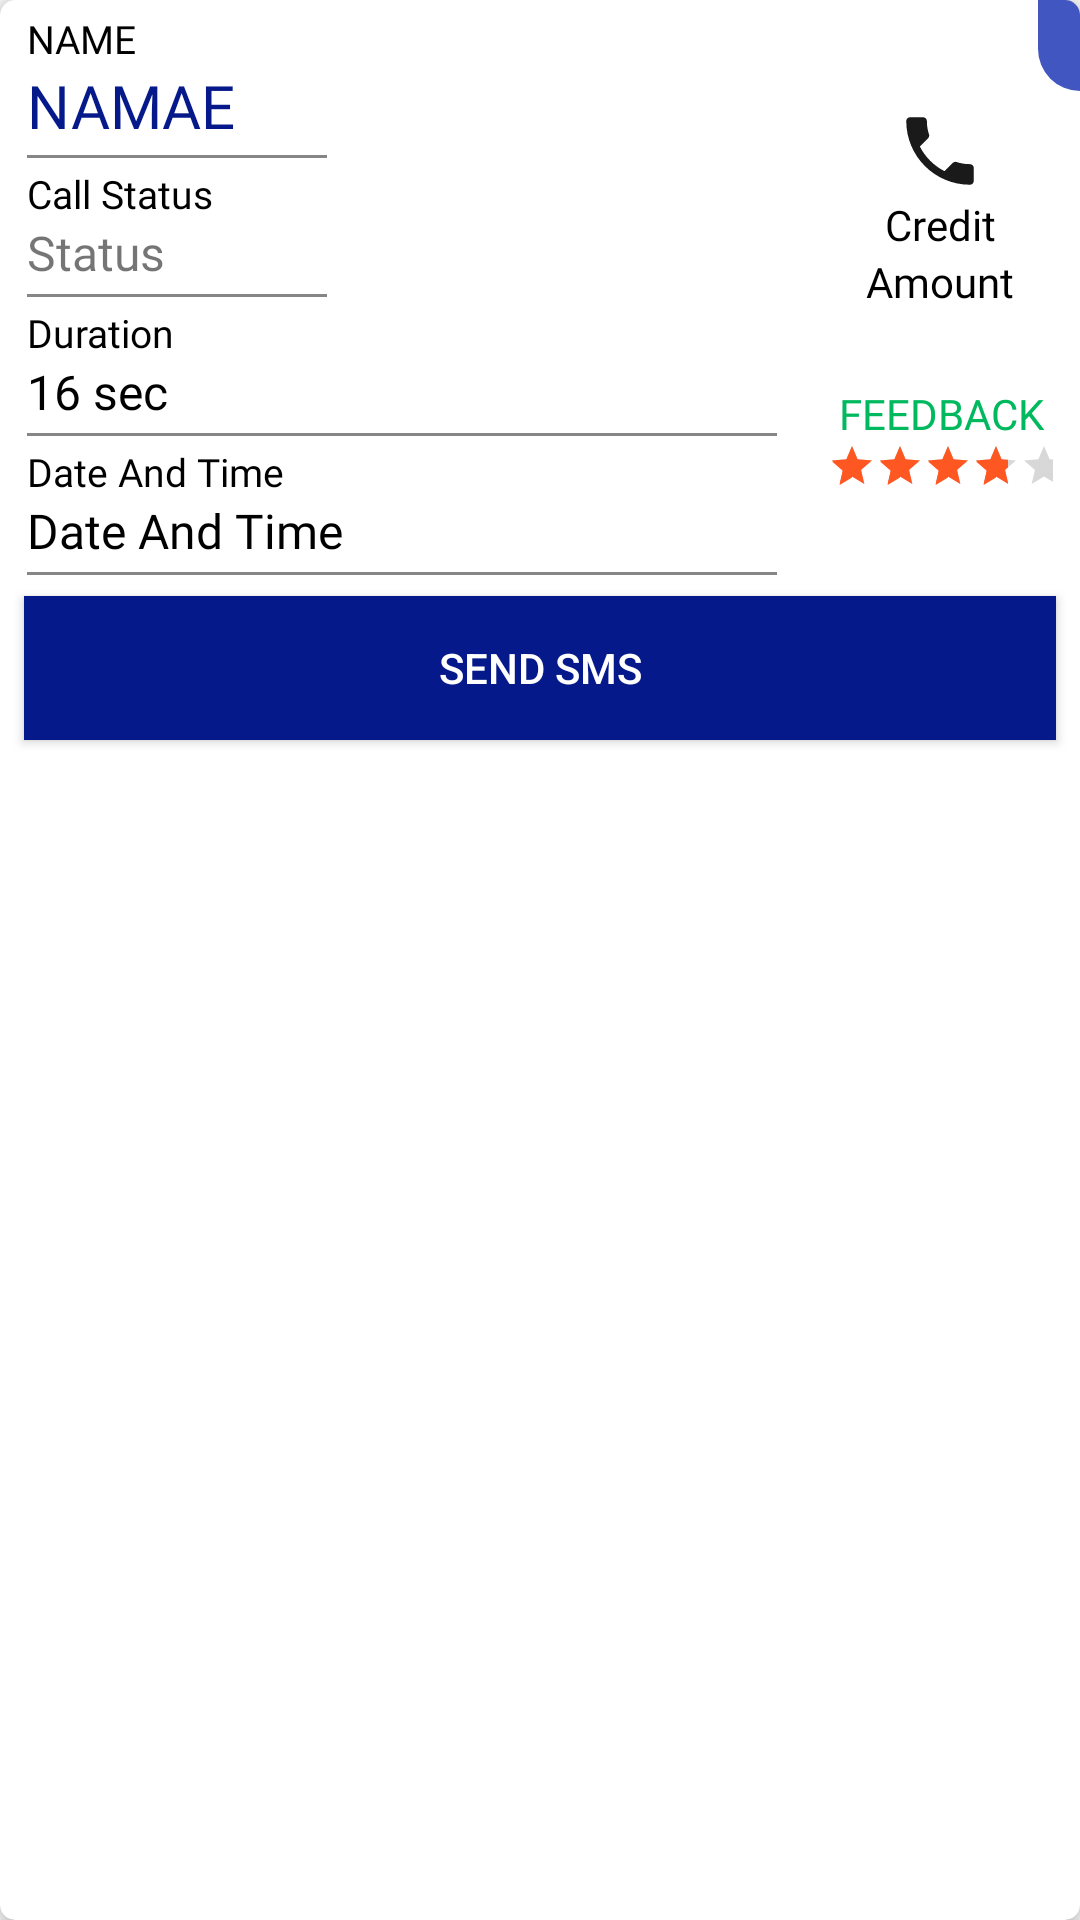

Named icons in this screenshot (1080px×1920px) and their bounding boxes, (x1, y1, x2, y2):
call: (906, 117, 974, 185)
